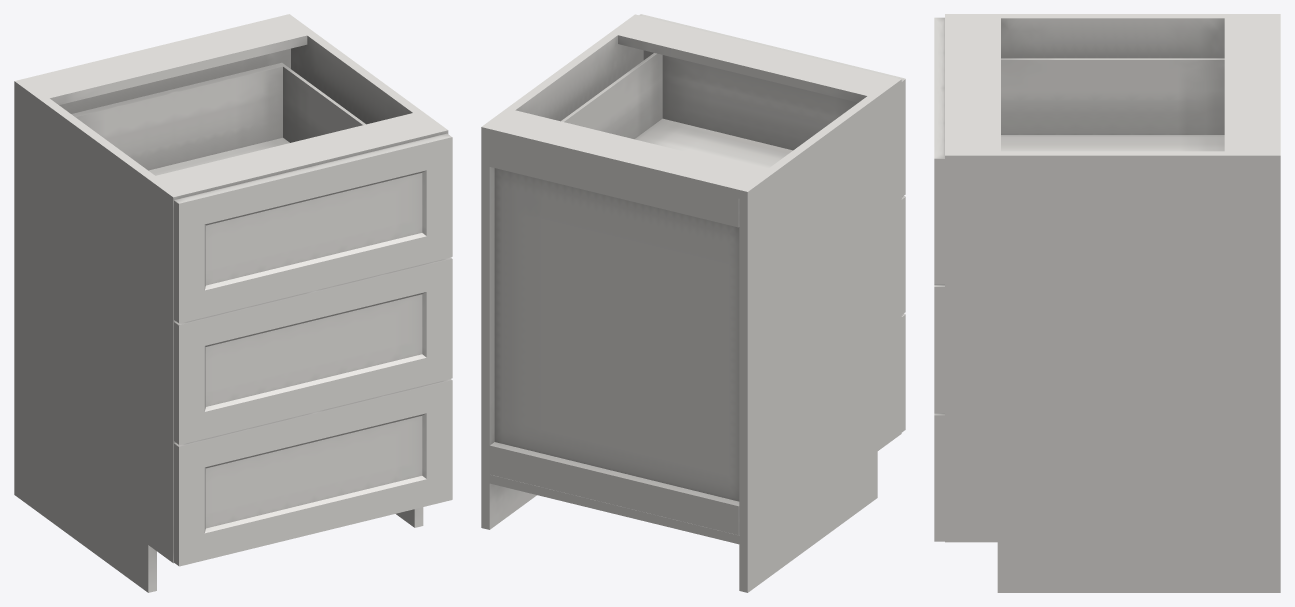
The model's file is 3-drawer-equal-base-doors-on.glb.
3 views of the same model, side by side, from view 1: azimuth 30°, elevation 25°; view 2: azimuth 150°, elevation 25°; view 3: azimuth 270°, elevation 25° (orthographic). The views are drawn at different scales.
Parts seen in each view (by area): view 1: part_6, part_0, part_7; view 2: part_0, part_6, part_7; view 3: part_0, part_7, part_6.
Part boxes in pixels (box(x1,y1,x2,y2)): part_6: box(174, 133, 452, 566); part_0: box(14, 14, 448, 592); part_7: box(71, 62, 365, 175); part_0: box(481, 14, 901, 592); part_6: box(639, 14, 905, 432); part_7: box(561, 53, 792, 170); part_0: box(945, 14, 1280, 592); part_7: box(1001, 58, 1224, 151); part_6: box(934, 17, 944, 541).
Size of the model in its own units: 0.6096 by 0.8763 by 0.6286.
3 materials, 2 textured.
